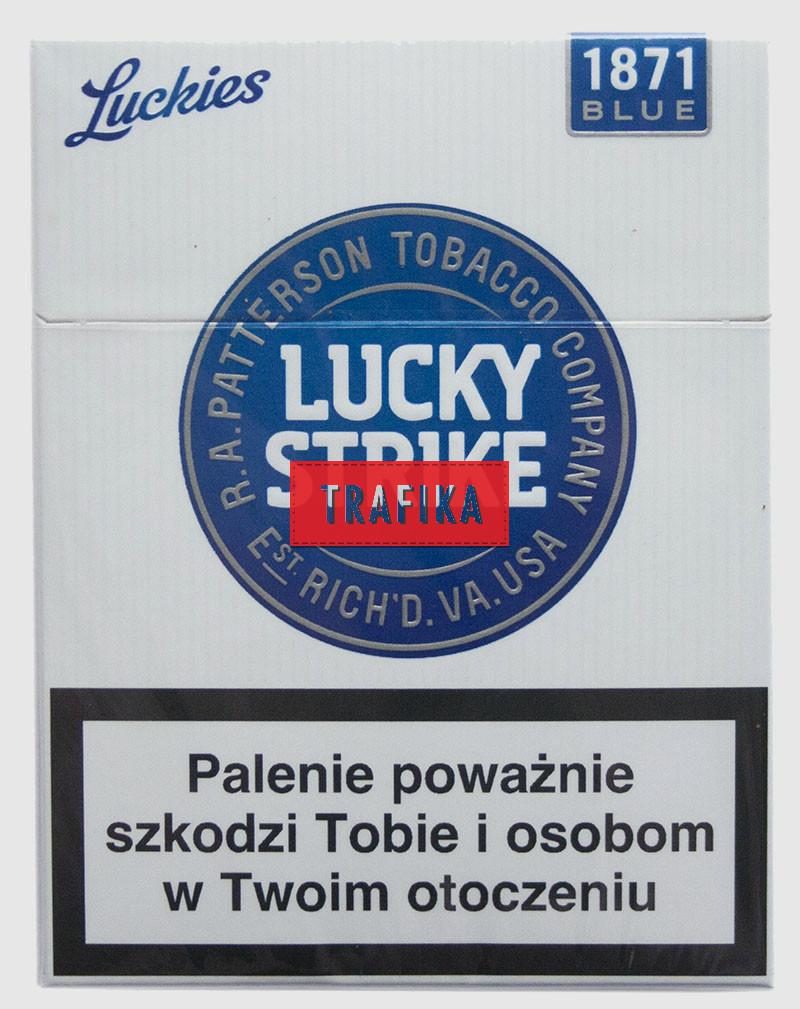lucky_strike_blue: (38, 39, 770, 982)
